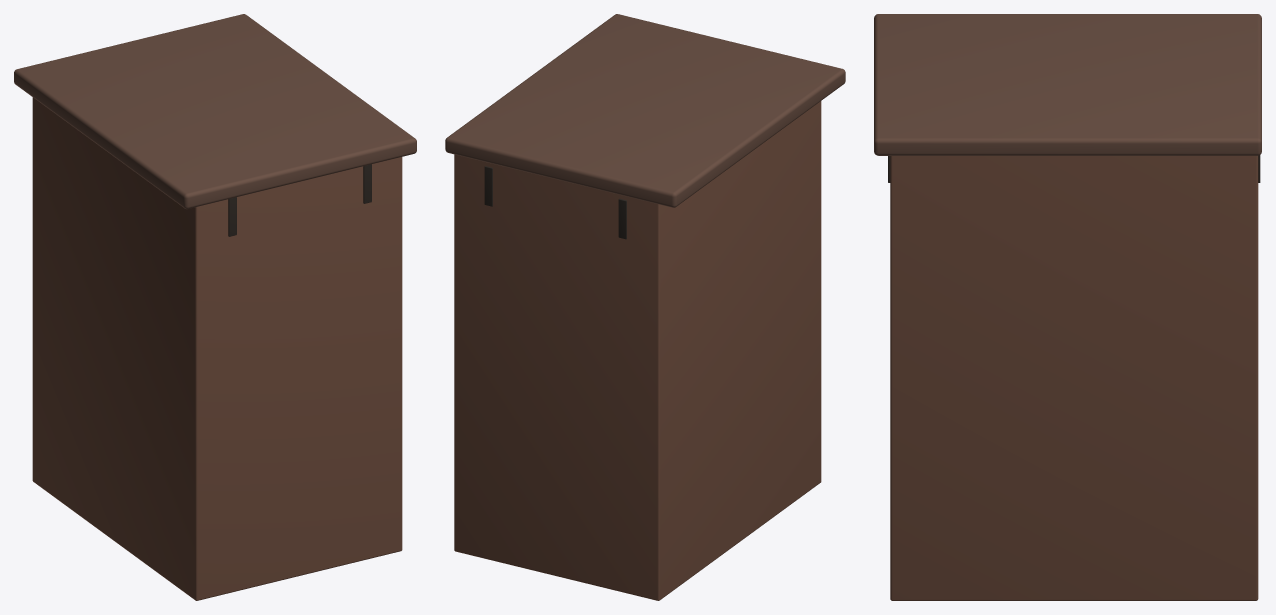
The picture shows the model from 3 angles, left to right: view 1: azimuth 30°, elevation 25°; view 2: azimuth 150°, elevation 25°; view 3: azimuth 270°, elevation 25°; orthographic projection. The views are drawn at different scales.
Parts seen in each view (by area): view 1: wooden_box; view 2: wooden_box; view 3: wooden_box.
Boxes of the visible parts, bbox=[...] form: wooden_box: bbox=[14, 14, 416, 600]; wooden_box: bbox=[445, 14, 845, 600]; wooden_box: bbox=[874, 14, 1261, 600].
Bounding box in the file's own units: 0.407 × 0.695 × 0.524.
